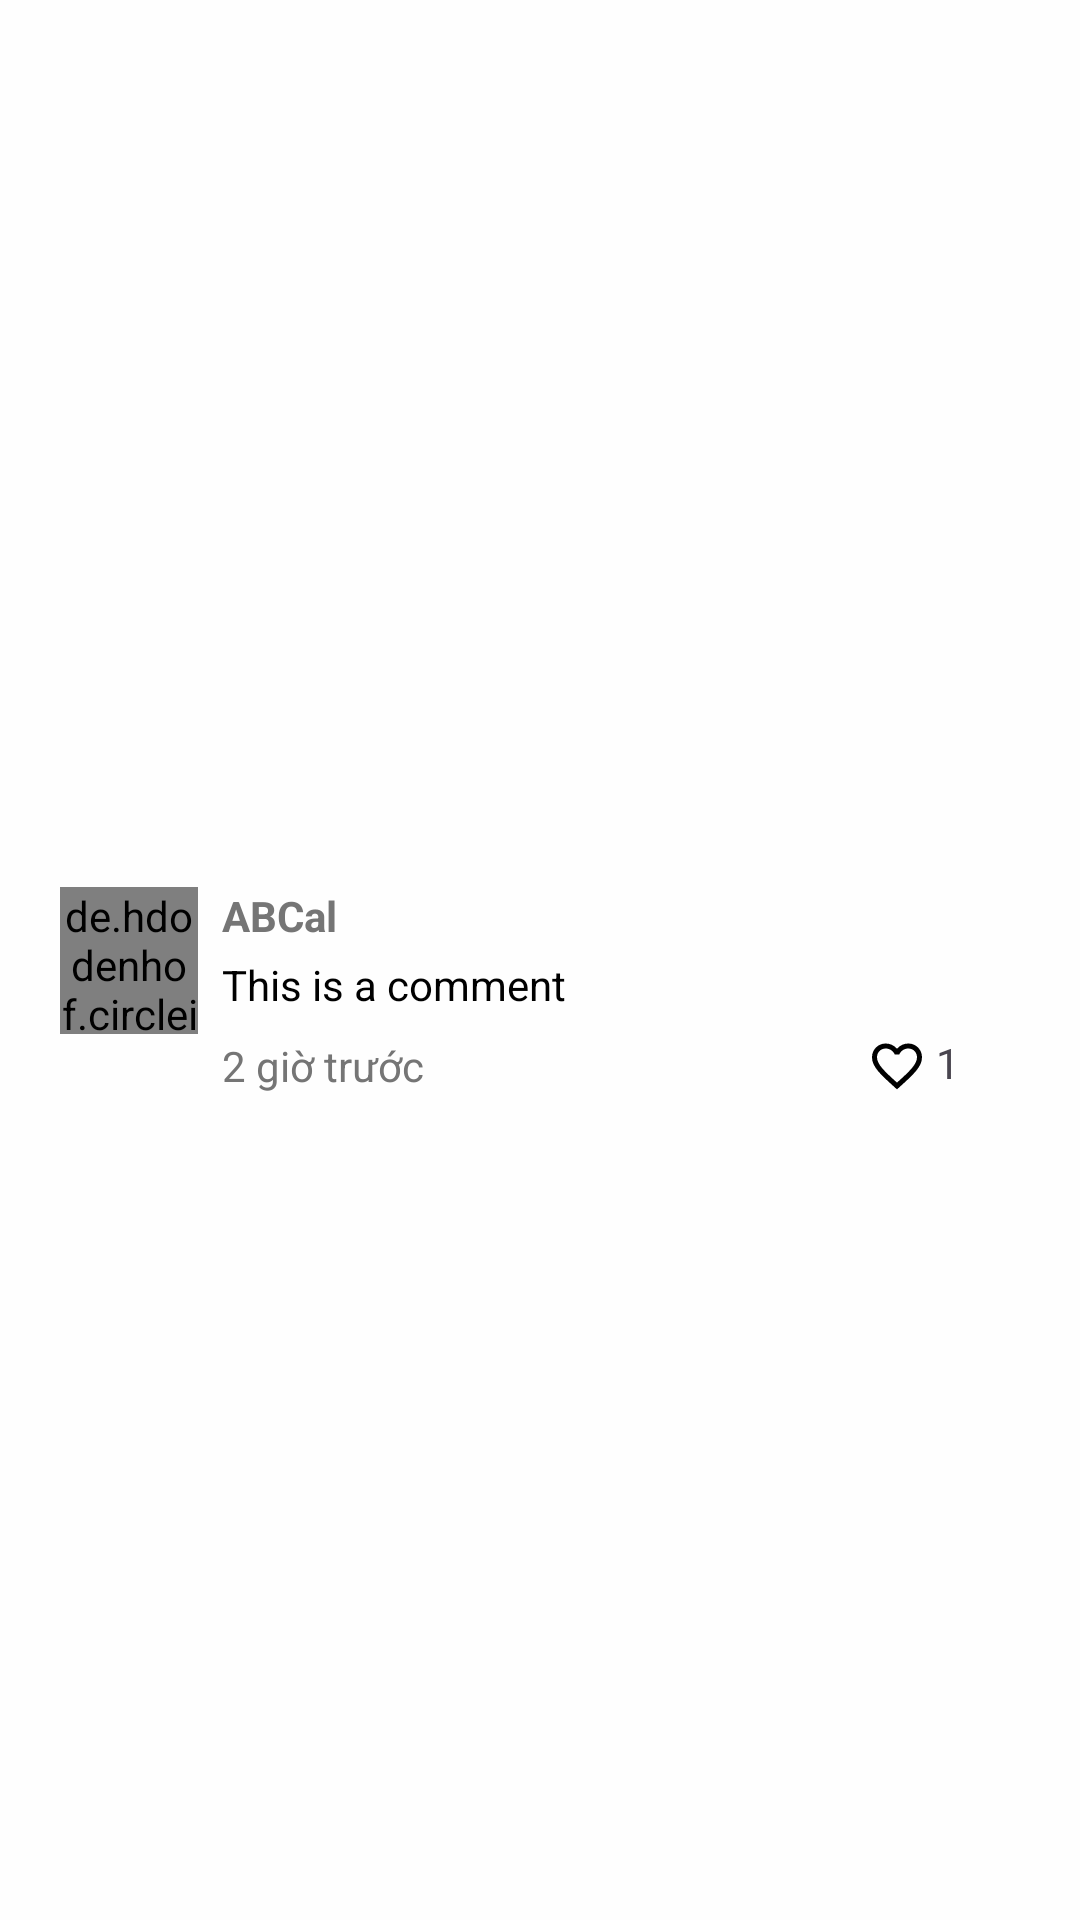

Screen size 1080px x 1920px. Icon name, then its center in pixels as (x,y):
favorite border: (897,1066)
